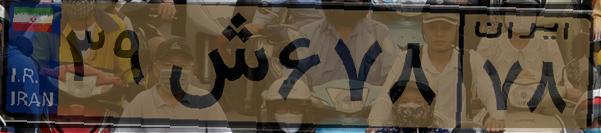3: (57, 26, 110, 100)
6: (270, 28, 330, 110)
7: (330, 28, 385, 110), (475, 38, 525, 113)
8: (385, 28, 445, 110), (525, 38, 570, 115)
9: (110, 28, 158, 98)
ش: (158, 12, 270, 120)
